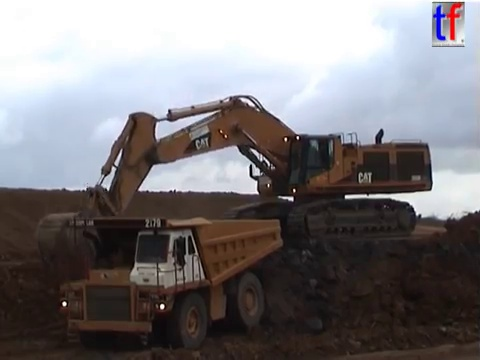excavator: (33, 93, 435, 273)
truck: (49, 213, 285, 349)
